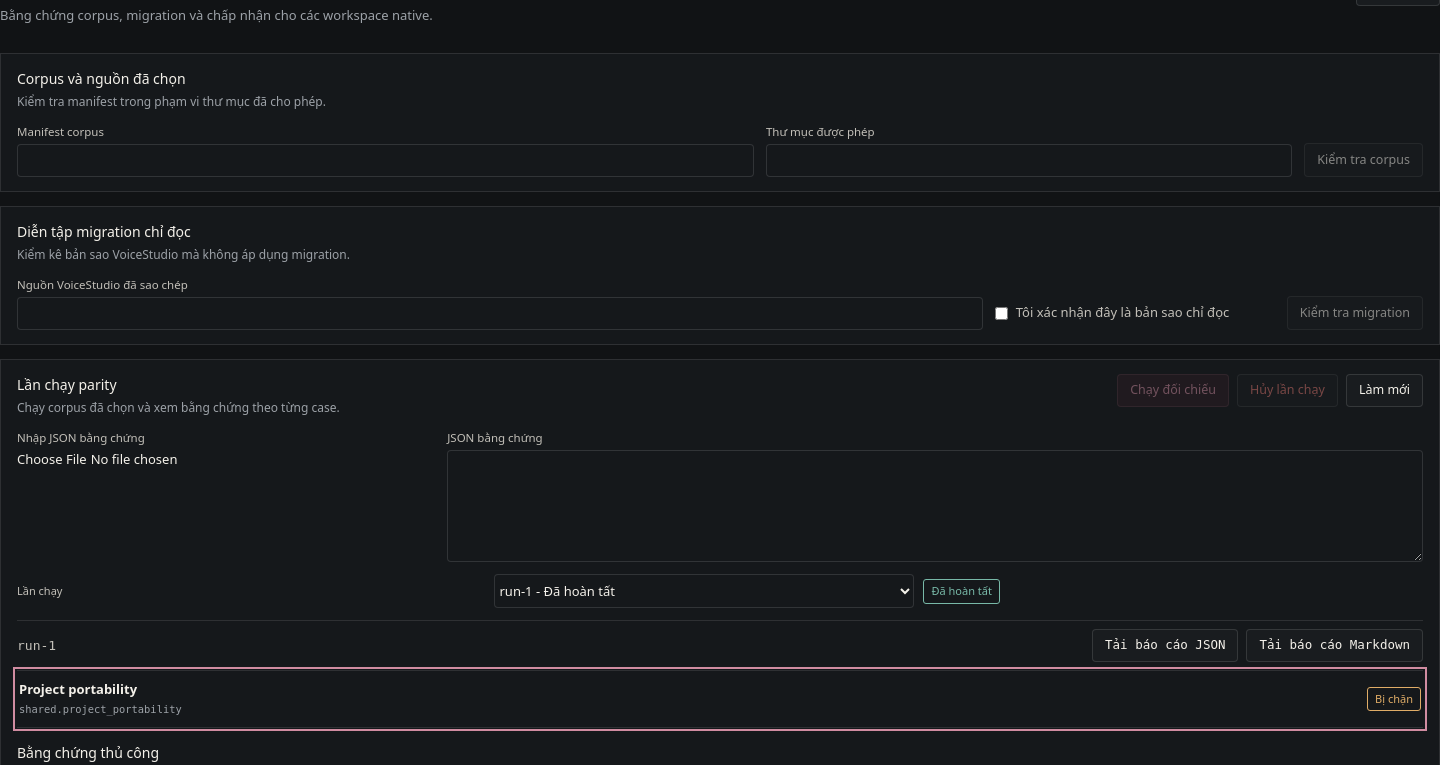
Test: ParityPage › uses a keyboard-focusable native disclosure for each case
The image size is (1440, 765).
Step 1. Click the heading "Project portability" → (78, 689), box [17,671,1423,727]
(page scrolled)
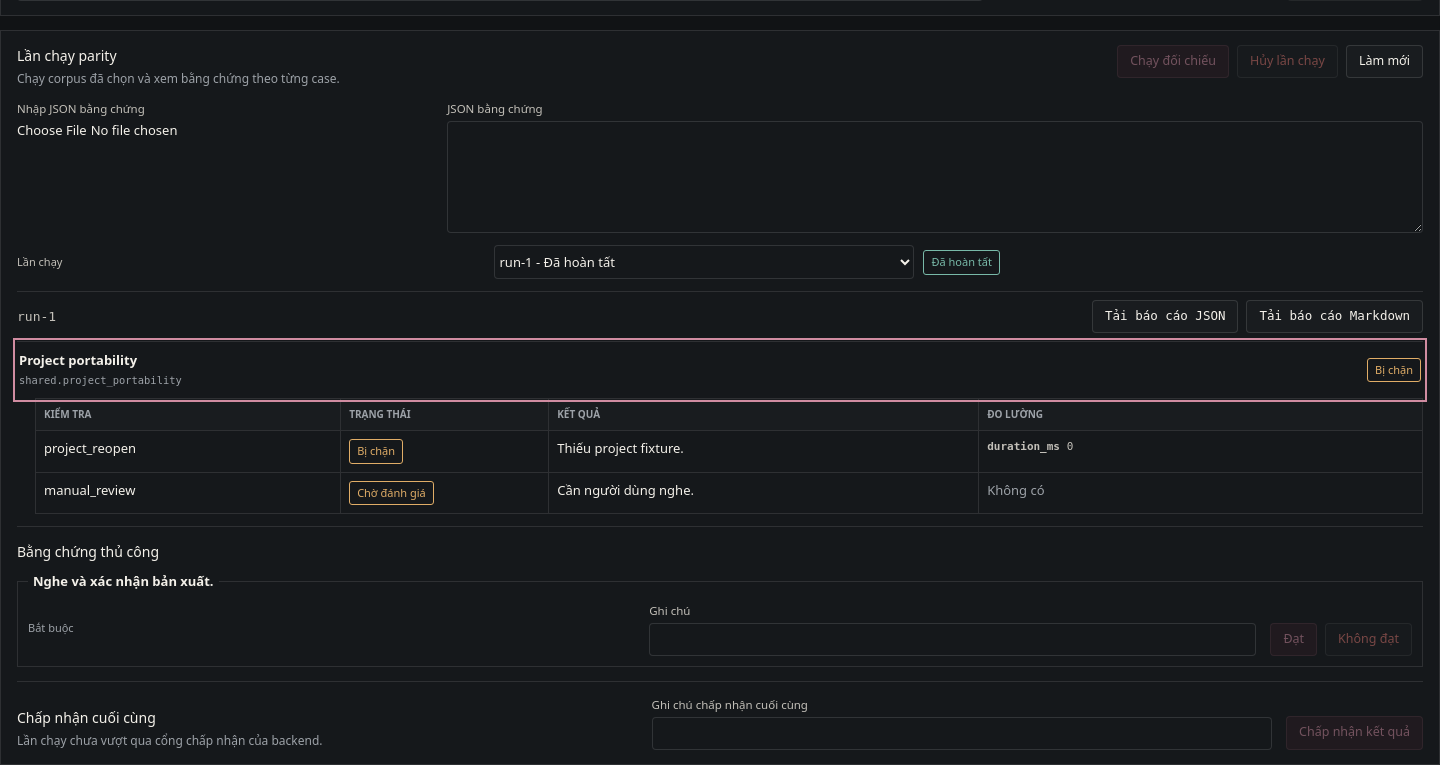
Now the text "duration_ms" is shown, box [987,440,1060,453]
